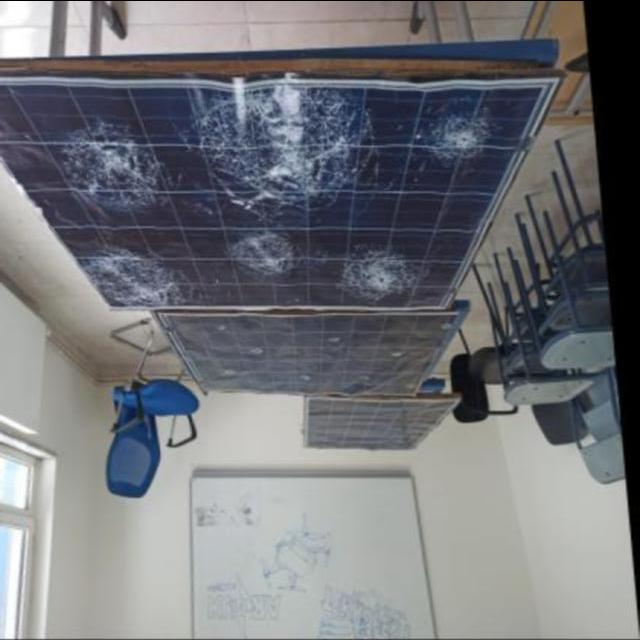cracked: (0, 73, 558, 308)
soiled: (152, 311, 471, 410)
